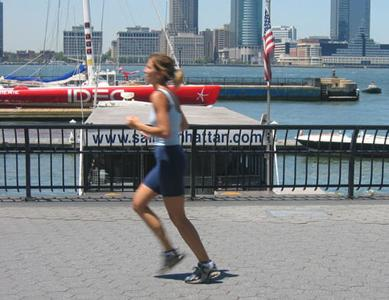person: (124, 53, 222, 285)
